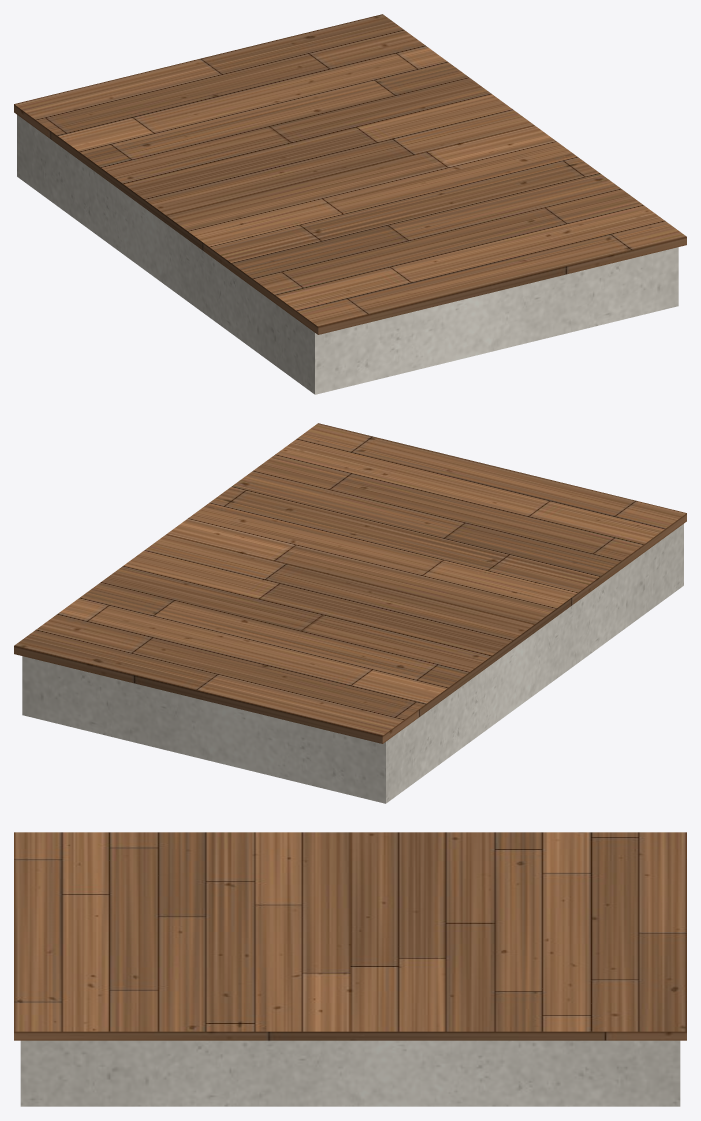
The model's file is floor_floor_u_e1000_h4.glb.
3 views of the same model, one above another, from view 1: azimuth 30°, elevation 25°; view 2: azimuth 150°, elevation 25°; view 3: azimuth 270°, elevation 25° (orthographic). The views are drawn at different scales.
Visible parts, largest first — view 1: floor_floor_u_e1000_h4_floor, floor_floor_u_e1000_h4_plaster; view 2: floor_floor_u_e1000_h4_floor, floor_floor_u_e1000_h4_plaster; view 3: floor_floor_u_e1000_h4_floor, floor_floor_u_e1000_h4_plaster.
Part boxes in pixels (<box>): floor_floor_u_e1000_h4_floor: <box>14,14,686,334</box>; floor_floor_u_e1000_h4_plaster: <box>17,115,678,394</box>; floor_floor_u_e1000_h4_floor: <box>14,423,686,743</box>; floor_floor_u_e1000_h4_plaster: <box>22,524,683,803</box>; floor_floor_u_e1000_h4_floor: <box>14,832,686,1040</box>; floor_floor_u_e1000_h4_plaster: <box>20,1040,680,1106</box>.
Size of the model in its own units: 1.4 by 0.255 by 2.
2 materials, 2 textured.
